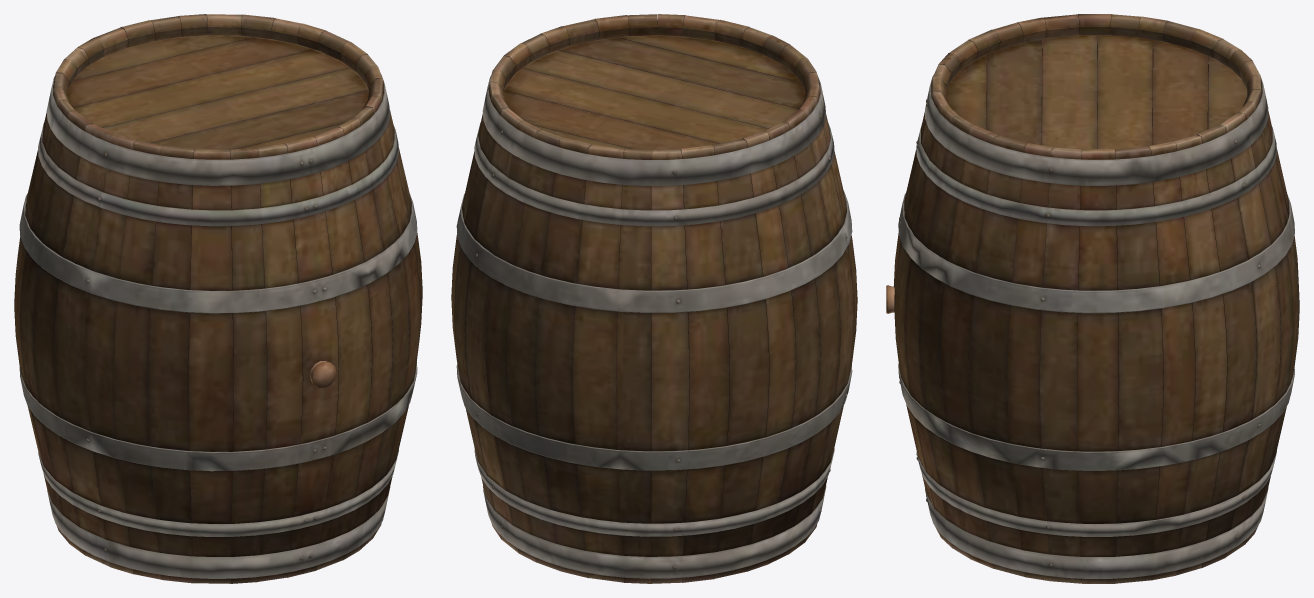
File: wine_barrel_01.glb
3 renders of one model, left to right at view 1: azimuth 30°, elevation 25°; view 2: azimuth 150°, elevation 25°; view 3: azimuth 270°, elevation 25°, orthographic.
Parts seen in each view (by area): view 1: wine_barrel_01_Lid; view 2: wine_barrel_01_Lid; view 3: wine_barrel_01_Lid.
Part boxes in pixels (<box>): wine_barrel_01_Lid: <box>14,14,422,583</box>; wine_barrel_01_Lid: <box>451,14,857,583</box>; wine_barrel_01_Lid: <box>886,14,1299,583</box>.
Size of the model in its own units: 0.7419 by 0.8713 by 0.7554.
Materials: 1 (1 with a texture image).
